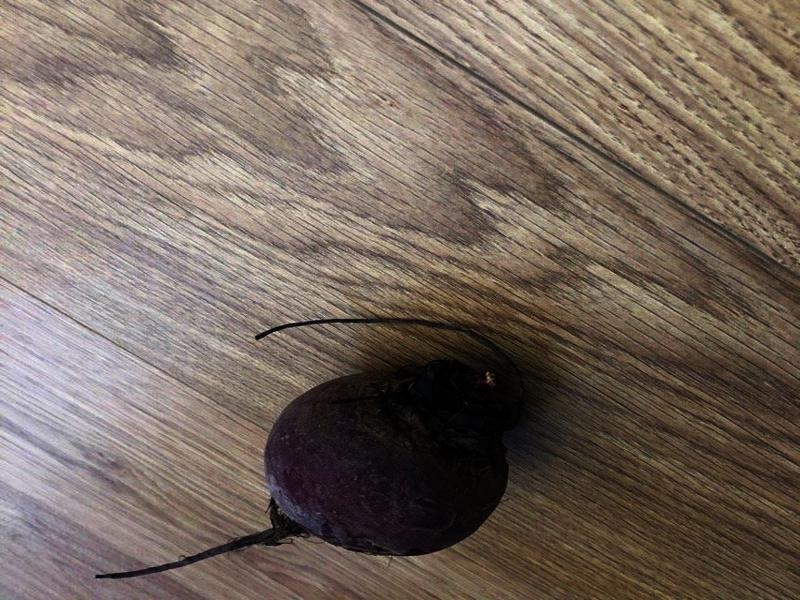Beet: (94, 318, 520, 578)
